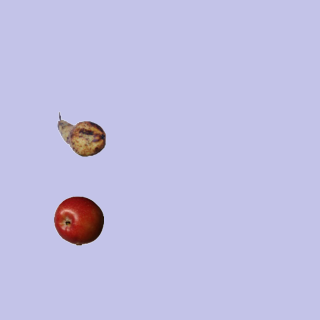Apple Braeburn: (53, 195, 103, 245)
Pear Abate: (56, 109, 106, 159)
